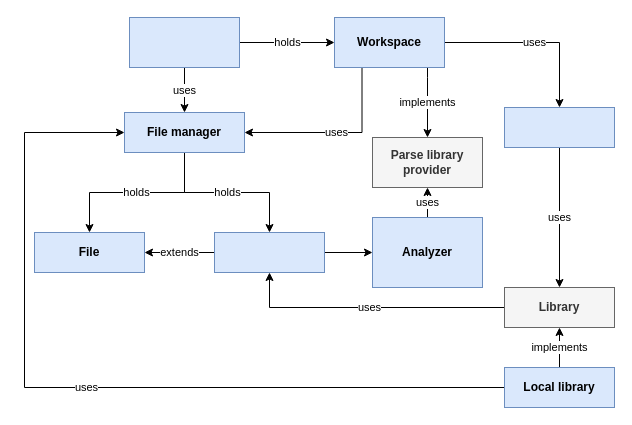
Image size: 632x425. Some labels were removed from this diagram. The centre of each missing label's shape, as x and y in pixels:
Processor file: point 269,252
Processor group: point 559,127
Workspace manager: point 184,42
